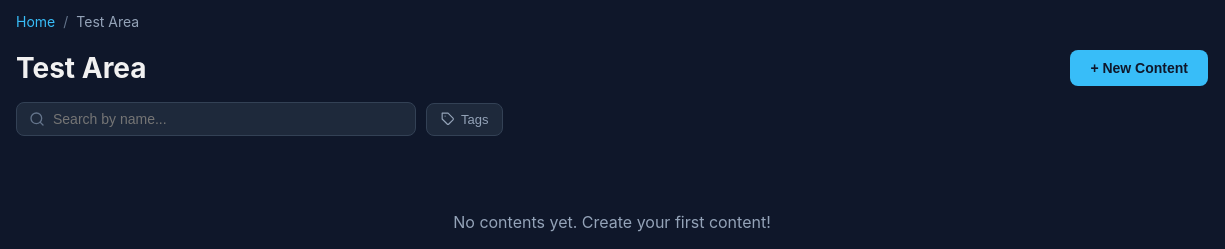
Test: AreaPage › Edit Area Name › should allow editing area name when clicking on title
Click the heading "Test Area": (81, 68) [16, 51, 147, 85]
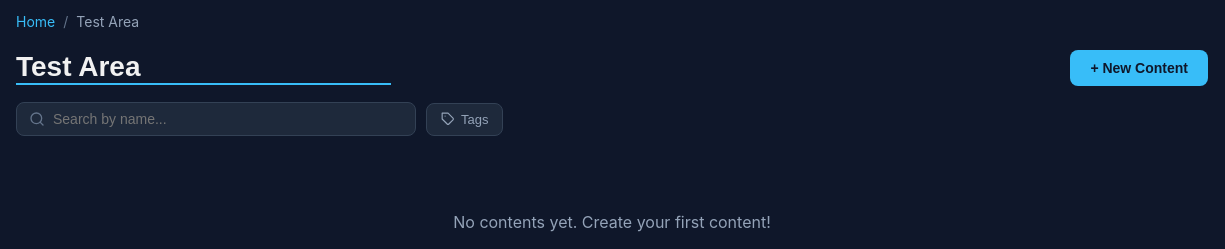
Check: the field showing "Test Area" is shown, box [16, 51, 391, 85]
